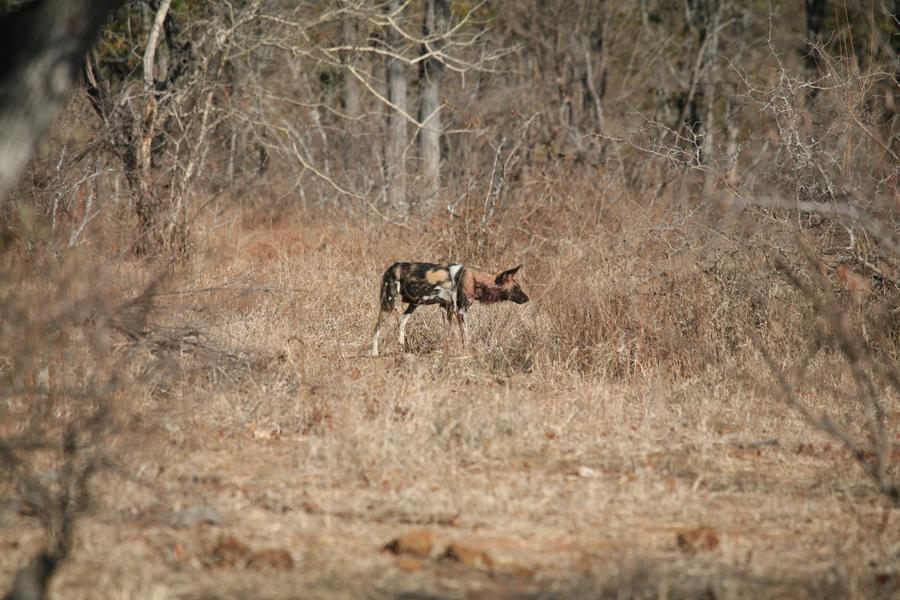wilddog: (369, 258, 537, 349)
